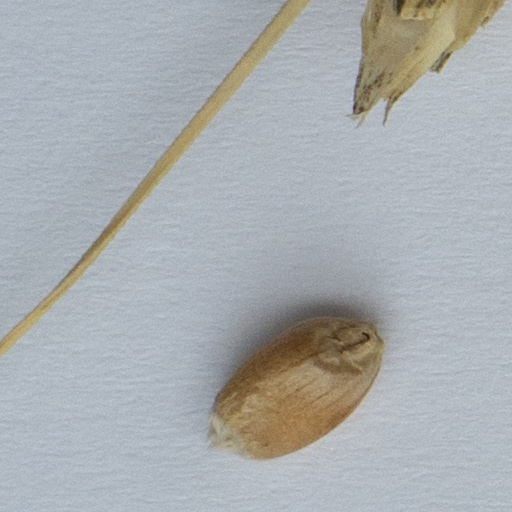Peel-poly: (0, 0, 318, 355), (352, 0, 506, 116)
